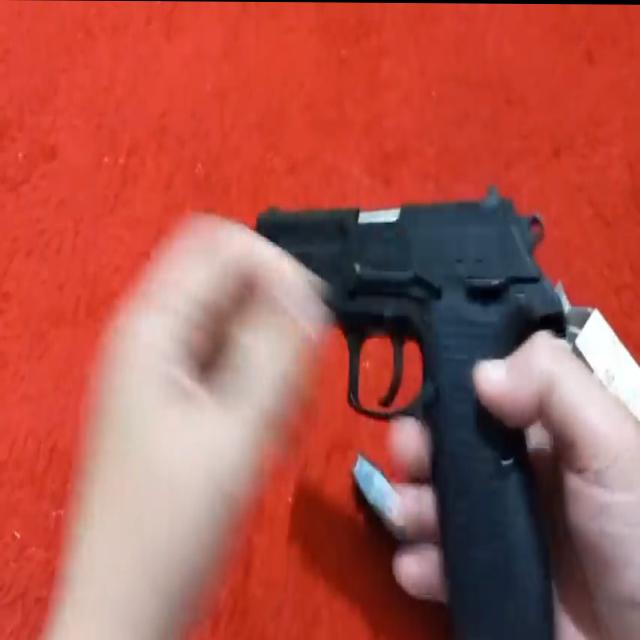handgun: (246, 188, 578, 640)
